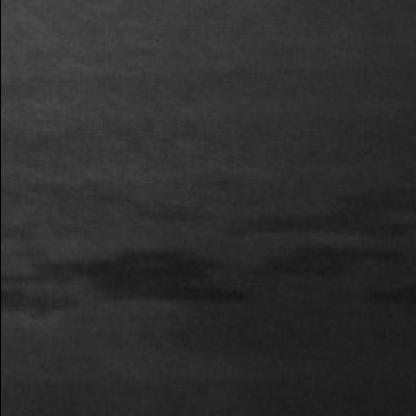inclusion: (6, 246, 416, 318), (96, 187, 416, 239)
